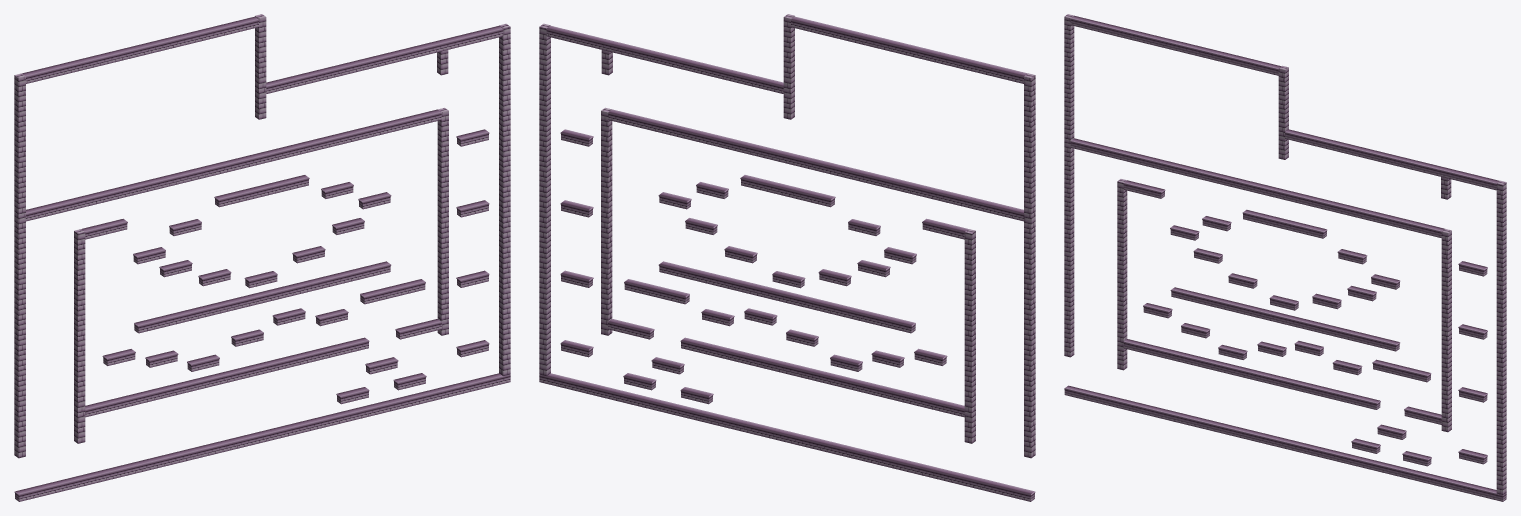
File: Map2.fbx
The picture shows the model from 3 angles, left to right: view 1: azimuth 30°, elevation 25°; view 2: azimuth 150°, elevation 25°; view 3: azimuth 330°, elevation 25°; orthographic projection. The views are drawn at different scales.
Visible parts, largest first — view 1: pCube11, BaseFloor33, Wall1, Wall4, BaseFloor45, BaseFloor40, BaseFloor35, BaseFloor36, Wall3, Wall2, Wall5, BaseCapR36 (+2 smaller); view 2: pCube11, BaseFloor33, Wall1, Wall4, BaseFloor45, BaseFloor40, BaseFloor35, BaseFloor36, Wall3, Wall2, Wall5, BaseCapR36 (+2 smaller); view 3: pCube11, BaseFloor33, Wall1, Wall4, BaseFloor45, BaseFloor40, BaseFloor35, BaseFloor36, Wall3, Wall2, Wall5, BaseCapR36 (+1 smaller).
Part boxes in pixels (box(x1,y1,x2,y2)): pCube11: box(14, 373, 510, 501); BaseFloor33: box(25, 109, 441, 221); Wall1: box(14, 73, 25, 458); Wall4: box(499, 23, 510, 375); BaseFloor45: box(85, 337, 369, 417); BaseFloor40: box(134, 261, 391, 333); BaseFloor35: box(266, 26, 503, 93); BaseFloor36: box(22, 16, 258, 83); Wall3: box(437, 107, 448, 335); Wall2: box(74, 229, 85, 443); Wall5: box(255, 14, 266, 119); BaseCapR36: box(214, 175, 309, 207); pCube11: box(539, 373, 1035, 501); BaseFloor33: box(608, 109, 1024, 221); Wall1: box(1024, 73, 1035, 458); Wall4: box(539, 23, 550, 375); BaseFloor45: box(680, 337, 964, 417); BaseFloor40: box(658, 261, 915, 333); BaseFloor35: box(546, 26, 783, 93); BaseFloor36: box(791, 16, 1027, 83); Wall3: box(601, 107, 612, 335); Wall2: box(964, 229, 975, 443); Wall5: box(783, 14, 794, 119); BaseCapR36: box(740, 175, 835, 207); pCube11: box(1064, 385, 1506, 501); BaseFloor33: box(1070, 138, 1444, 237); Wall1: box(1064, 14, 1074, 357); Wall4: box(1496, 180, 1506, 494); BaseFloor45: box(1123, 339, 1380, 409); BaseFloor40: box(1170, 287, 1400, 351); BaseFloor35: box(1285, 129, 1499, 190); BaseFloor36: box(1070, 15, 1281, 75); Wall3: box(1441, 229, 1451, 432); Wall2: box(1117, 179, 1127, 370); Wall5: box(1278, 65, 1288, 159); BaseCapR36: box(1242, 209, 1327, 238).
Bounding box in the file's own units: 68.01 × 56.11 × 1.
